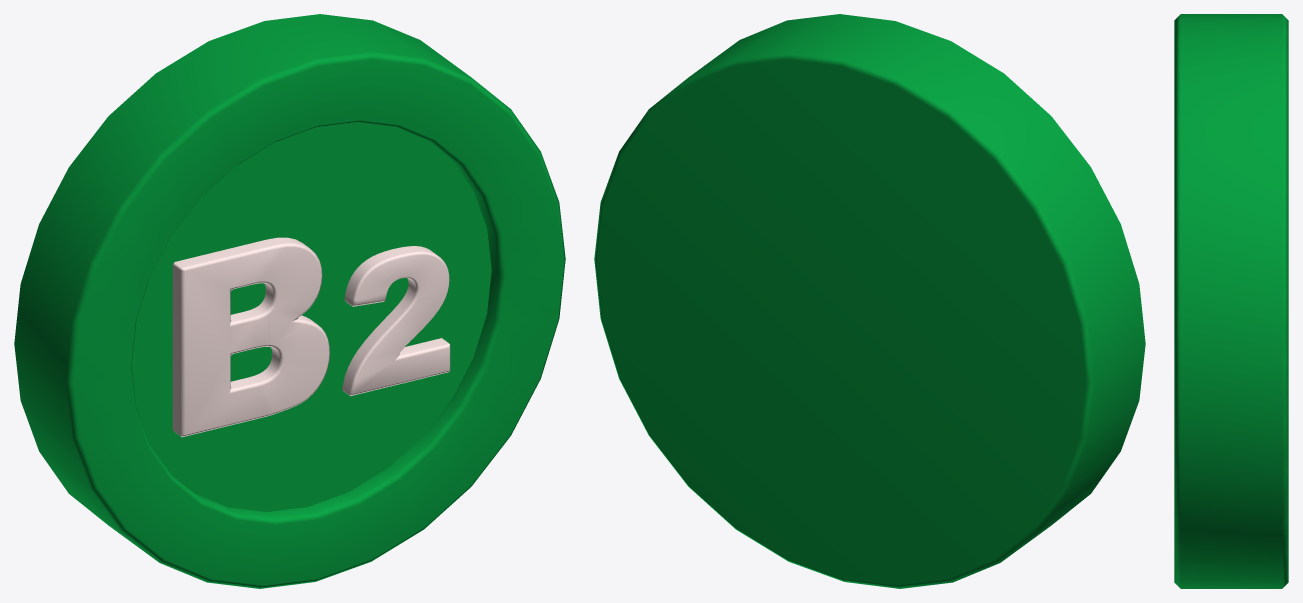
Rendered from Store_15_Vitamin_B2_1.glb.
3 views of the same model, side by side, from view 1: azimuth 30°, elevation 25°; view 2: azimuth 150°, elevation 25°; view 3: azimuth 270°, elevation 25° (orthographic).
Parts seen in each view (by area): view 1: Store_15_Vitamin_B2_1; view 2: Store_15_Vitamin_B2_1; view 3: Store_15_Vitamin_B2_1.
Boxes of the visible parts, x1,y1,x2,y2 form: Store_15_Vitamin_B2_1: [14, 14, 565, 588]; Store_15_Vitamin_B2_1: [594, 14, 1145, 588]; Store_15_Vitamin_B2_1: [1174, 14, 1288, 588].
Size of the model in its own units: 1.92 by 1.92 by 0.3815.
1 material, 1 textured.
